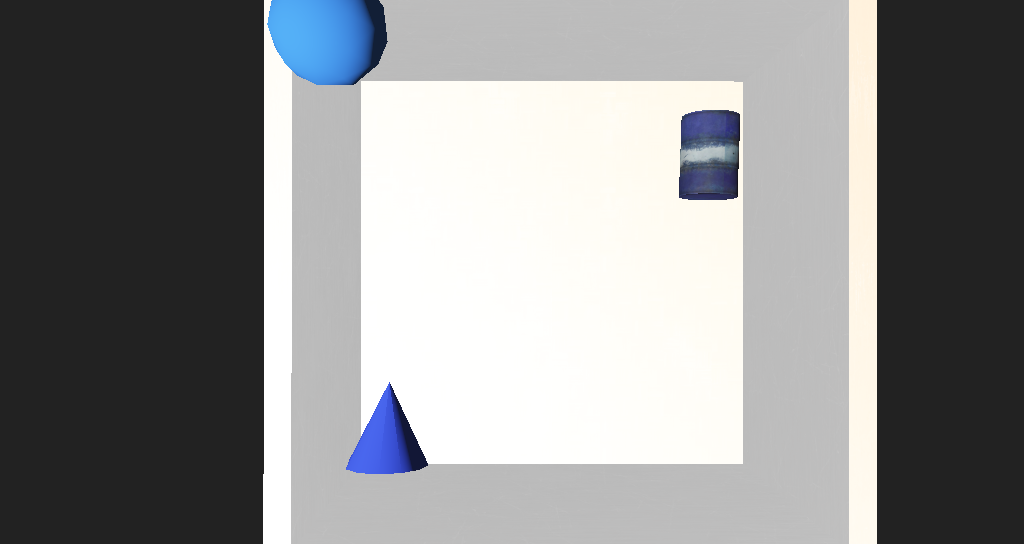cone: (600, 179, 653, 231)
cylinder: (340, 324, 414, 382)
sphere: (290, 115, 371, 172)
